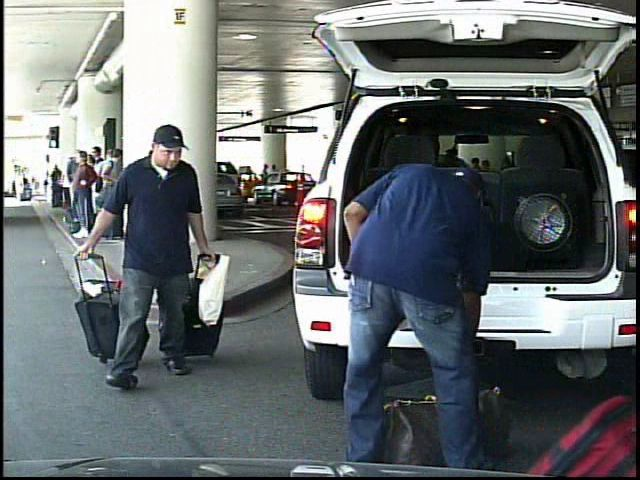person: (314, 129, 501, 476), (79, 116, 224, 400), (260, 163, 271, 198), (14, 171, 25, 201)
